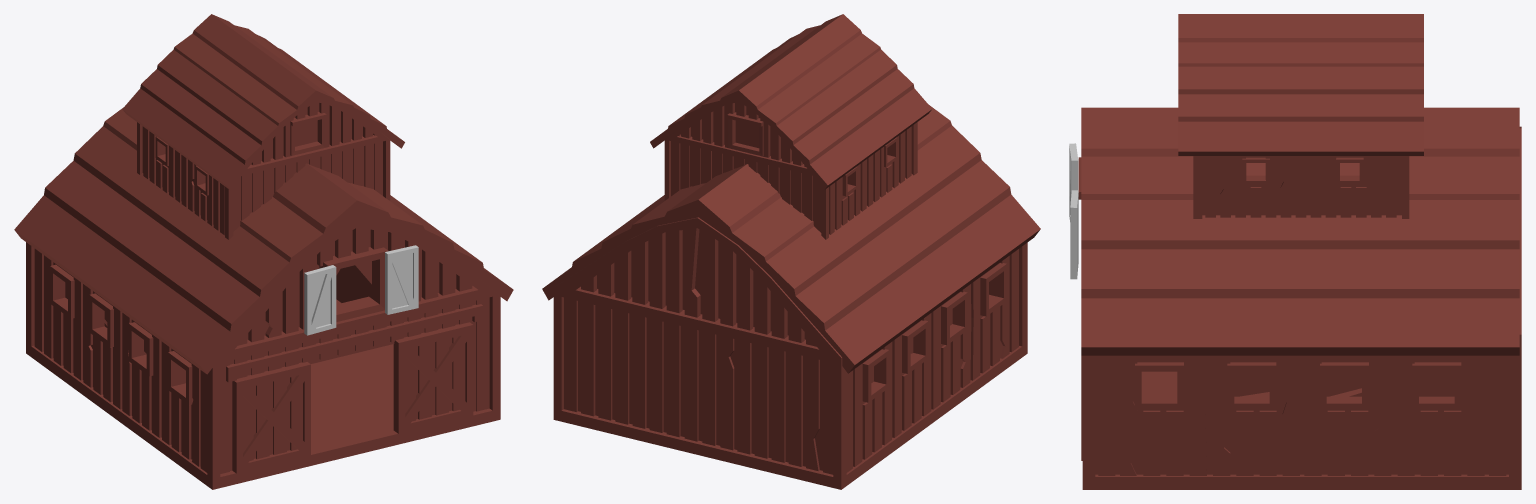
The model's file is BigBarn.glb.
3 views of the same model, side by side, from view 1: azimuth 30°, elevation 25°; view 2: azimuth 150°, elevation 25°; view 3: azimuth 270°, elevation 25° (orthographic). The views are drawn at different scales.
Parts seen in each view (by area): view 1: BigBarn_Cube.034, BigBarn_Door_Cube.009, BigBarn_Door2_Cube.012, BigBarn_Window_Cube.017, BigBarn_Window2_Cube.016; view 2: BigBarn_Cube.034; view 3: BigBarn_Cube.034, BigBarn_Window_Cube.017, BigBarn_Window2_Cube.016.
Part boxes in pixels (box(x1,y1,x2,y2)): BigBarn_Cube.034: box(14, 14, 513, 489); BigBarn_Door_Cube.009: box(393, 322, 473, 433); BigBarn_Door2_Cube.012: box(232, 362, 310, 473); BigBarn_Window_Cube.017: box(385, 245, 418, 314); BigBarn_Window2_Cube.016: box(304, 265, 336, 335); BigBarn_Cube.034: box(542, 14, 1040, 489); BigBarn_Cube.034: box(1078, 14, 1521, 489); BigBarn_Window_Cube.017: box(1070, 190, 1078, 279); BigBarn_Window2_Cube.016: box(1069, 143, 1078, 221).
Bounding box in the file's own units: 7.73 × 7.89 × 8.22.
